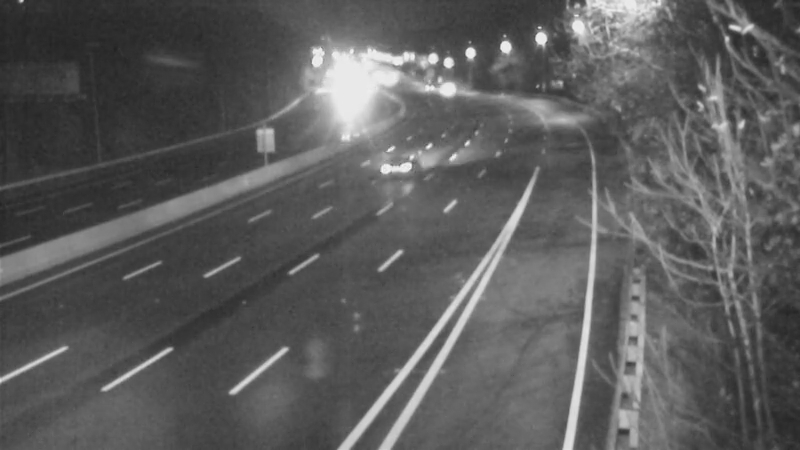vehicle: (365, 127, 445, 207), (405, 62, 455, 112), (418, 64, 468, 114)
